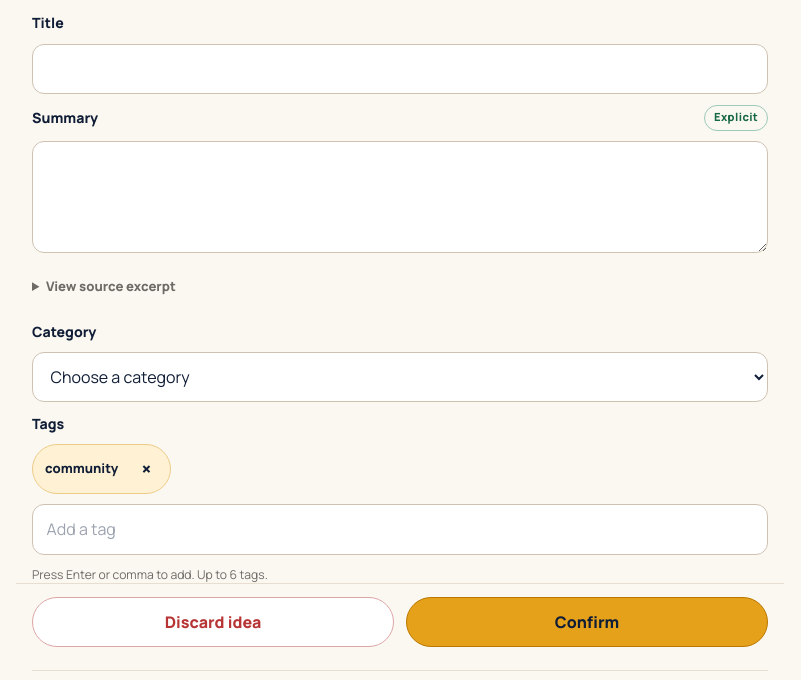
Test case: IdeaCandidateForm controlled draft › validates title, summary, category, optional grounded text, and accepted IDs before confirmation
Click the button "Confirm".
click(587, 622)  # box [406,597,768,647]
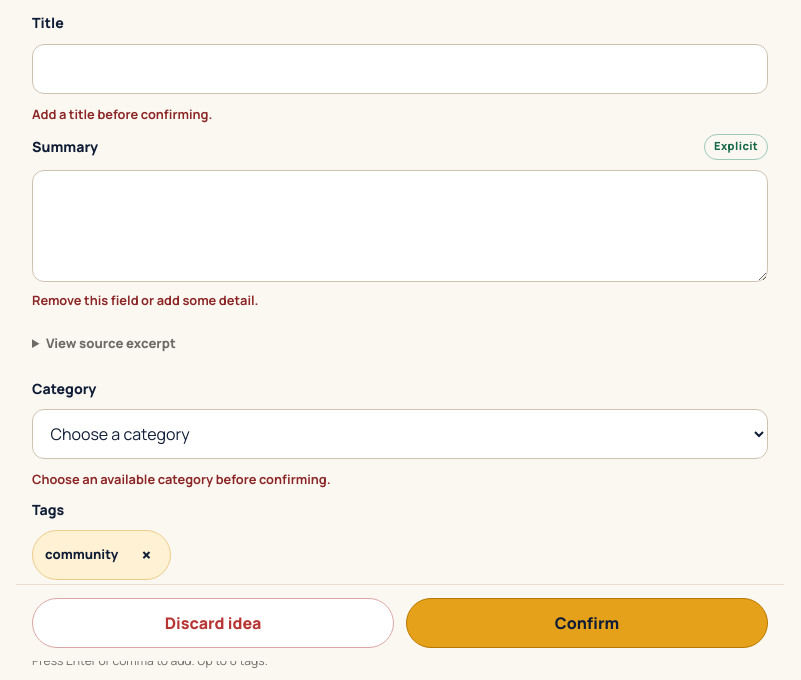
Check: the text "Add a title before confirming." is shown, box [32,105,212,123]
Check: the text "Choose an available category before confirming." is shown, box [32,470,331,488]
